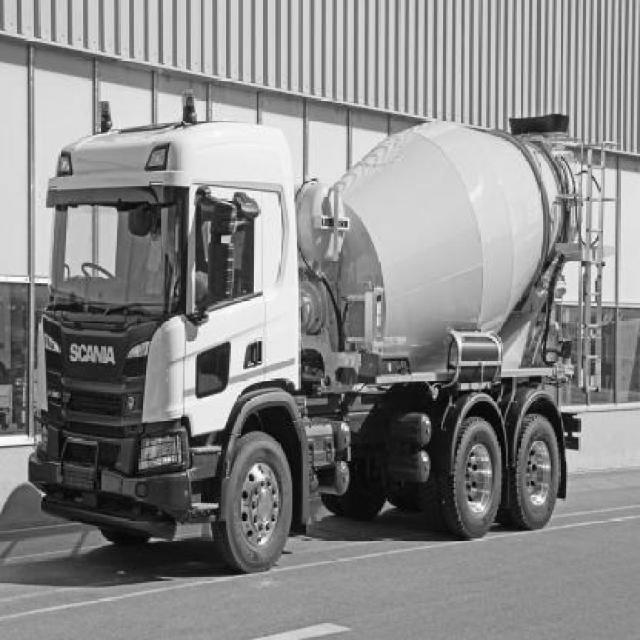Concrete Mixer: (27, 90, 620, 576)
